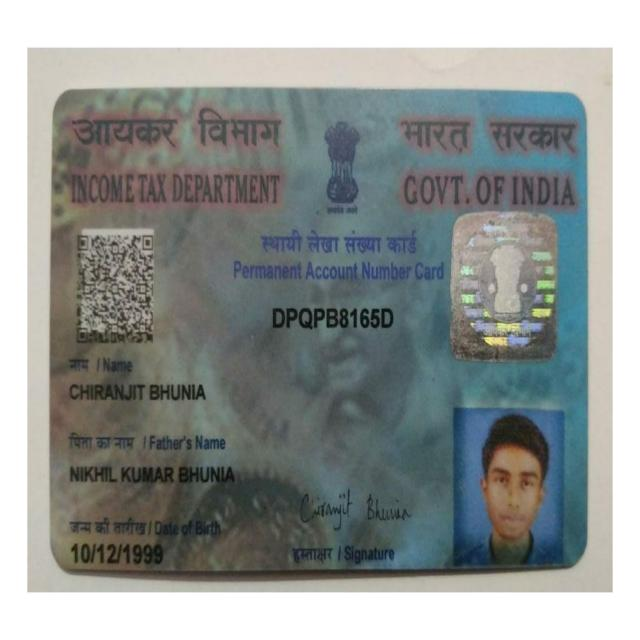pan_card: (51, 100, 586, 566)
